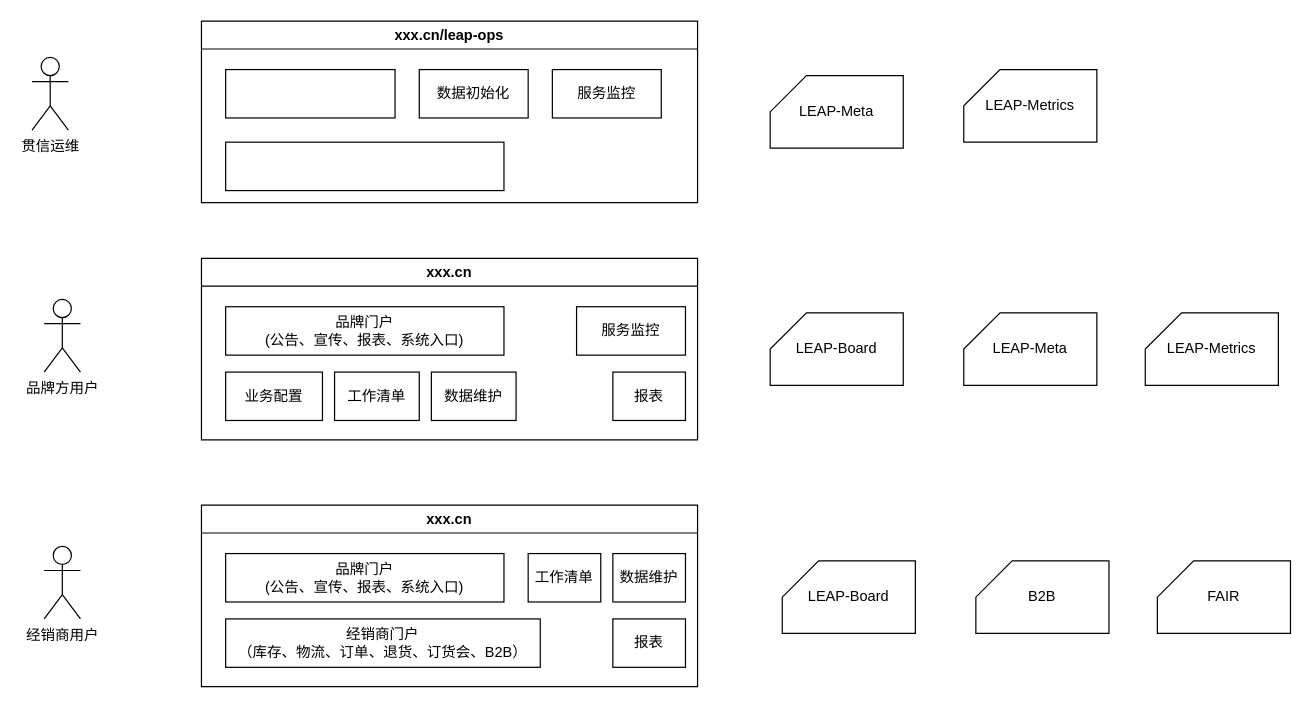
This 1312x708 diagram has some shape labels left out. The shapes that lost their labels are listed below. From the top down, each one's box as (x1, y1, x2, y2) in pixels, then its label:
(224, 68, 395, 118): 运维工具 （备份、检测、安装...）
(224, 141, 504, 191): 系统管理 (模块管理、系统参数、产品证书...)
